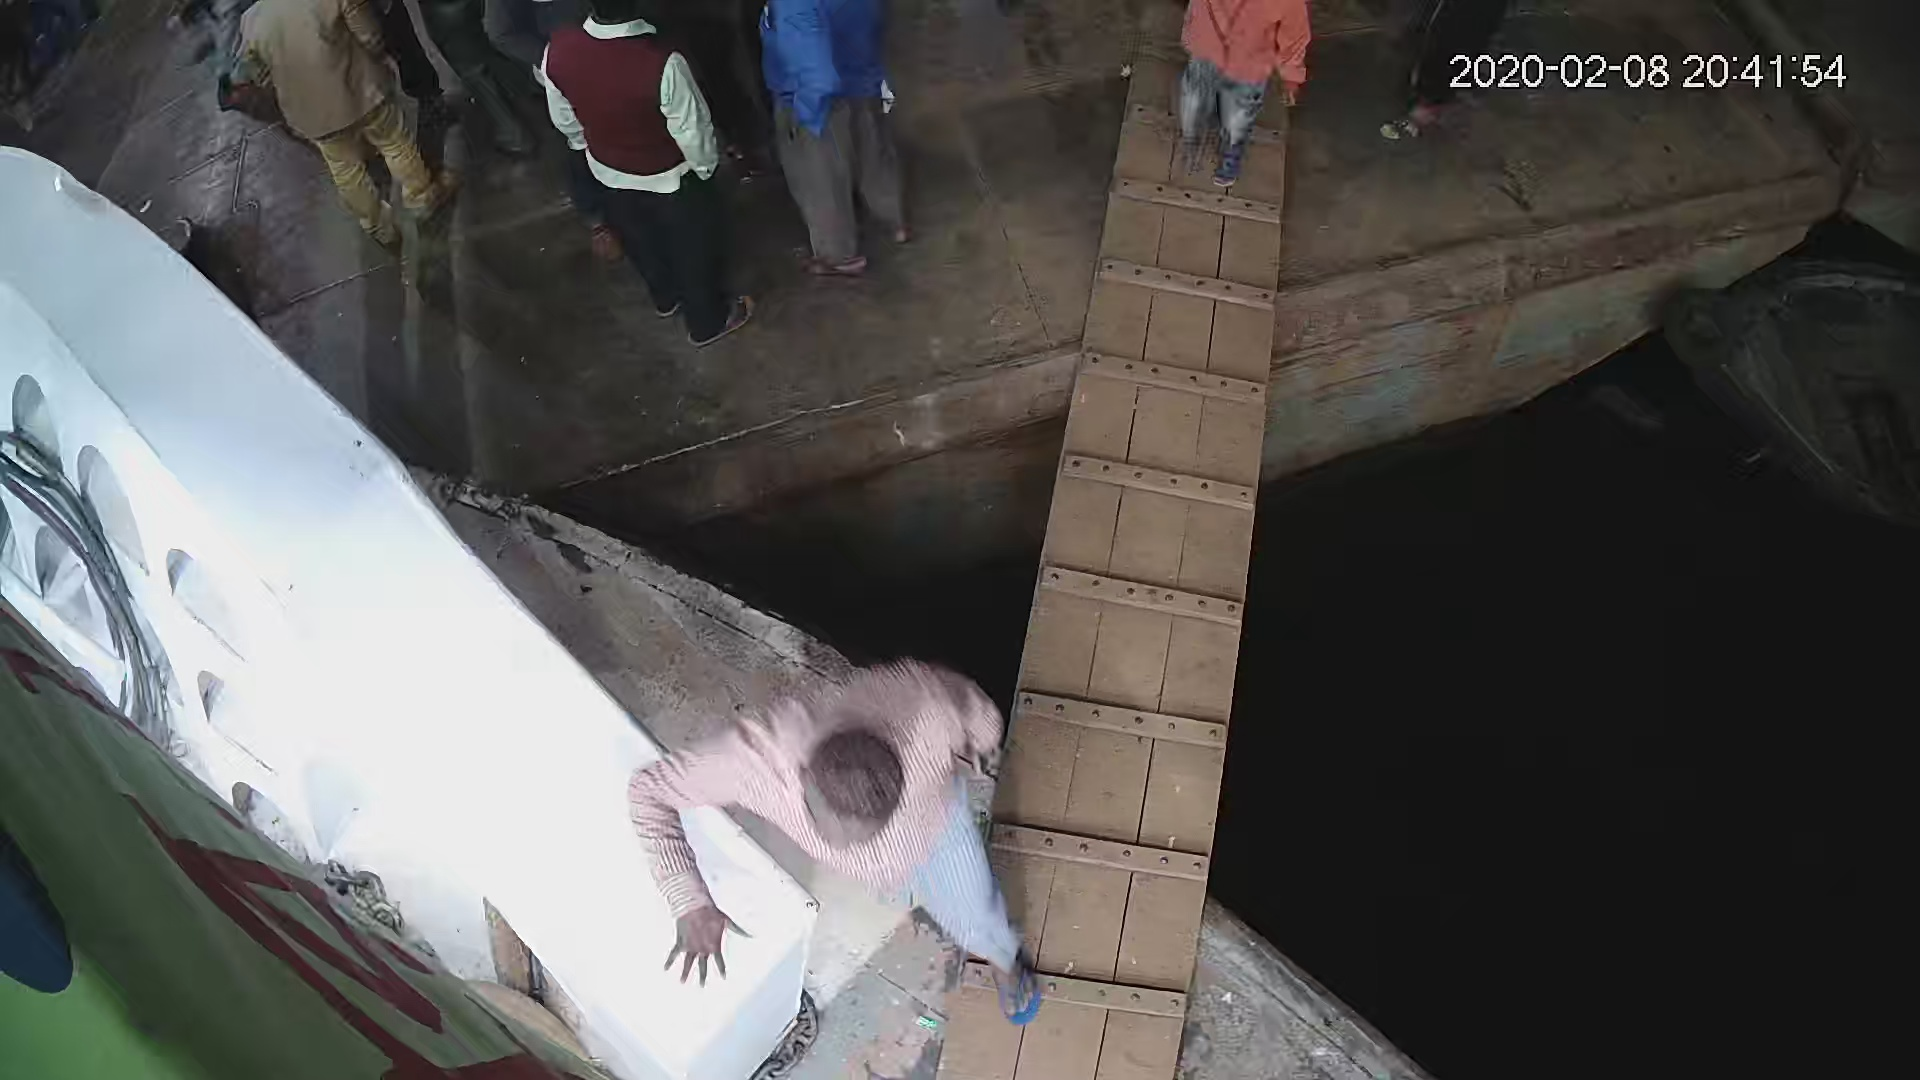person: (698, 649, 1048, 1032), (531, 3, 758, 351), (231, 1, 450, 255), (758, 9, 919, 291), (1175, 1, 1327, 199)
